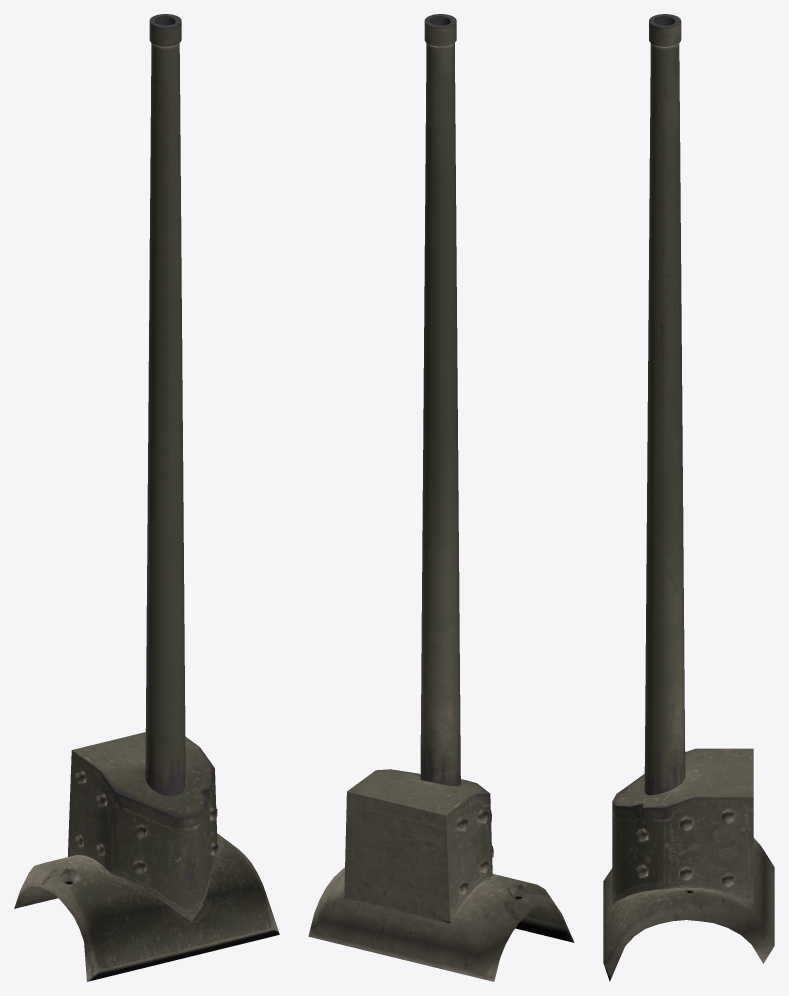
File: Gun_01.glb
The picture shows the model from 3 angles, left to right: view 1: azimuth 30°, elevation 25°; view 2: azimuth 150°, elevation 25°; view 3: azimuth 270°, elevation 25°; orthographic projection.
Parts seen in each view (by area): view 1: set_0_group_0; view 2: set_0_group_0; view 3: set_0_group_0.
Boxes of the visible parts, left/top/right/bottom form: set_0_group_0: left=14, top=14, right=279, bottom=981; set_0_group_0: left=308, top=14, right=574, bottom=981; set_0_group_0: left=603, top=14, right=774, bottom=981.
Bounding box in the file's own units: 0.8174 × 3.7 × 0.6263.
1 material, 1 textured.
